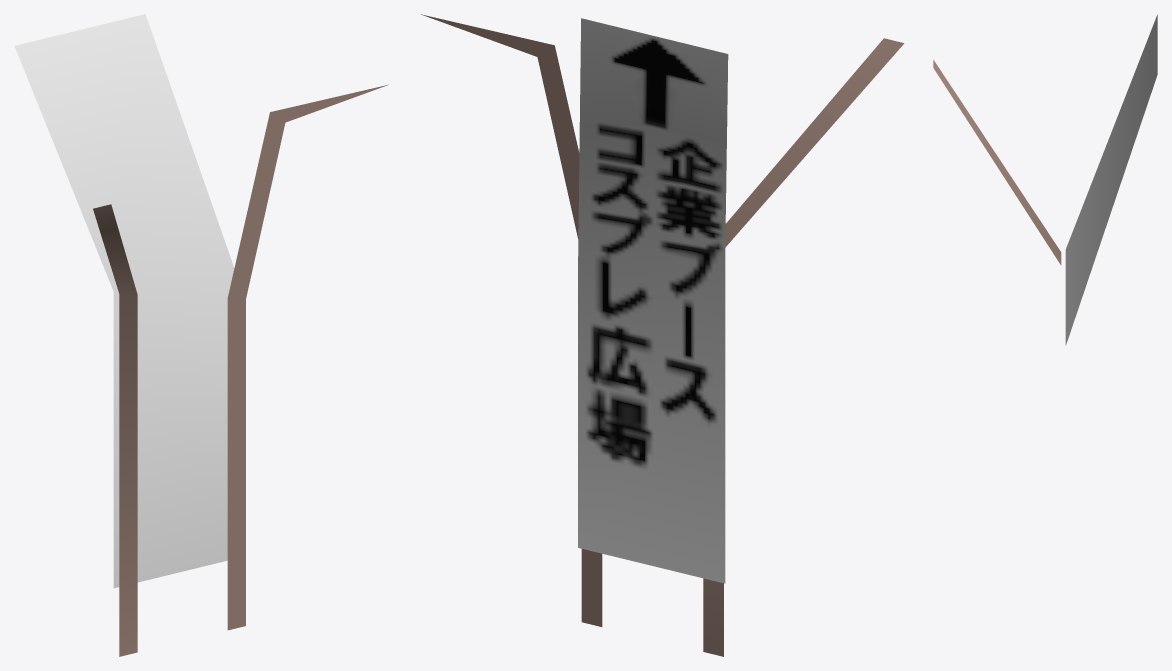
File: TO_KIGYO.glb
3 views of the same model, side by side, from view 1: azimuth 30°, elevation 25°; view 2: azimuth 150°, elevation 25°; view 3: azimuth 270°, elevation 25° (orthographic). The views are drawn at different scales.
Parts seen in each view (by area): view 1: FRAME_ROOT; view 2: FRAME_ROOT; view 3: FRAME_ROOT.
Part boxes in pixels (bbox=[...]): FRAME_ROOT: bbox=[14, 14, 388, 656]; FRAME_ROOT: bbox=[421, 14, 904, 656]; FRAME_ROOT: bbox=[933, 14, 1157, 345].
Bounding box in the file's own units: 2.78 × 4.28 × 1.56.
Materials: 2 (2 with a texture image).
